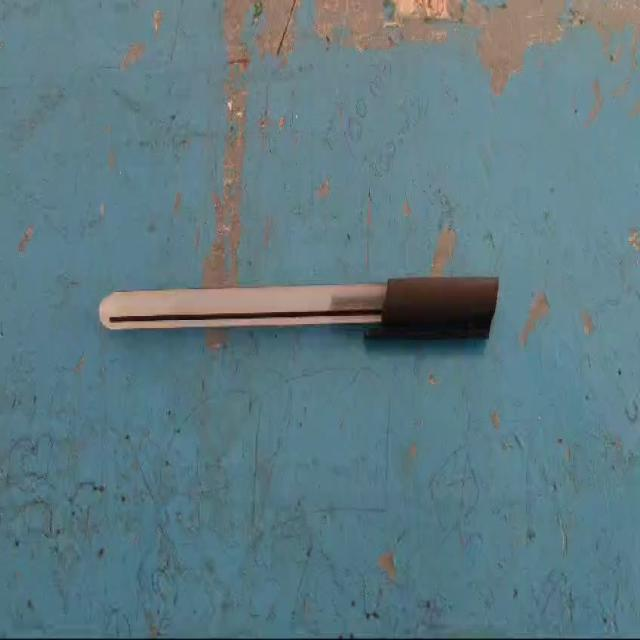pen: (66, 227, 542, 410)
